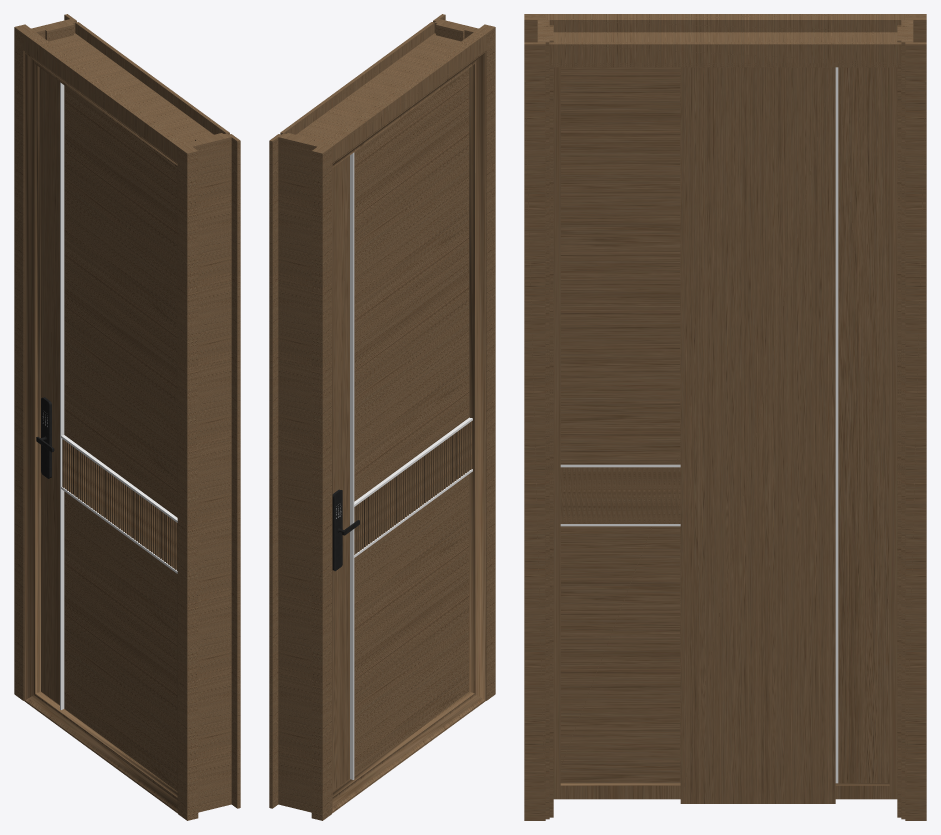
Rendered from DOOR_B.gltf.
3 views of the same model, side by side, from view 1: azimuth 30°, elevation 25°; view 2: azimuth 150°, elevation 25°; view 3: azimuth 270°, elevation 25° (orthographic). The views are drawn at different scales.
Visible parts, largest first — view 1: door.002, door.001, door.003, door.004, handle.001; view 2: door.002, door.001, door.003, door.004, handle.001; view 3: door.002, door.003, door.001, door.004.
Boxes of the visible parts, box(x1,y1,x2,y2) form: door.002: box(14, 14, 240, 820); door.001: box(24, 51, 177, 813); door.003: box(41, 68, 177, 709); door.004: box(62, 439, 177, 570); handle.001: box(36, 397, 54, 478); door.002: box(269, 14, 495, 820); door.001: box(332, 51, 485, 813); door.003: box(332, 152, 472, 790); door.004: box(354, 421, 471, 554); handle.001: box(332, 489, 359, 571); door.002: box(524, 14, 926, 820); door.003: box(560, 67, 889, 783); door.001: box(553, 67, 897, 799); door.004: box(560, 467, 678, 523).
Size of what is drawn, in the model's own units: 0.2172 by 2.6 by 1.22.
8 materials, 6 textured.
